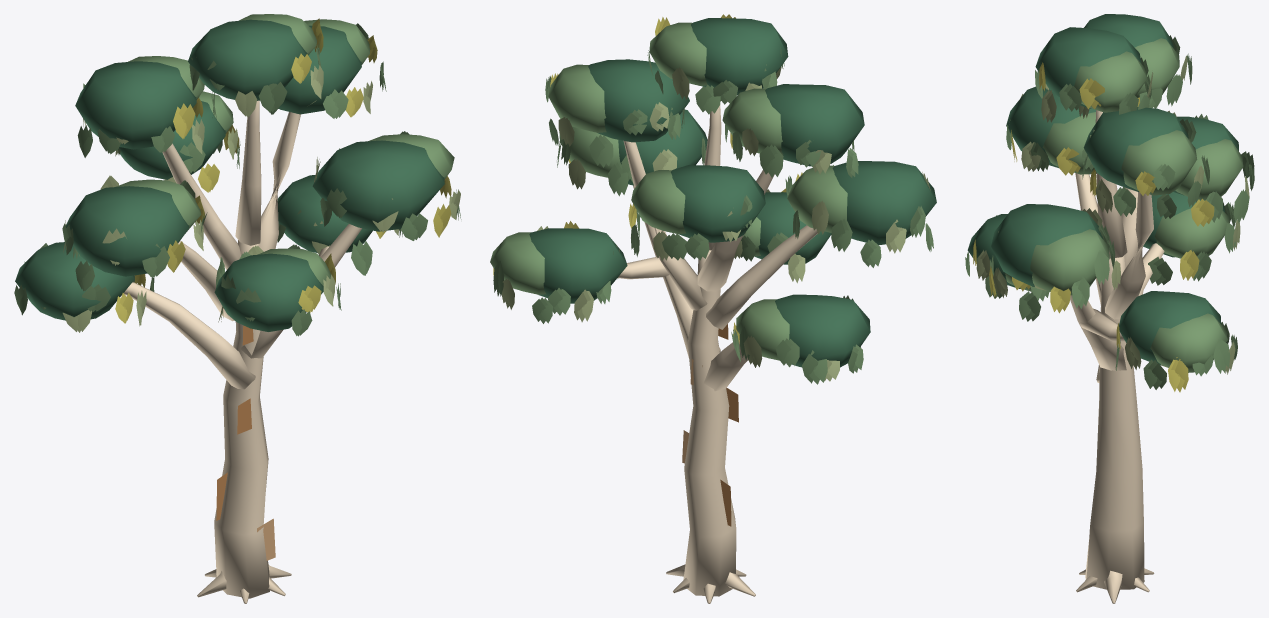
Rendered from TREE_EUCALYPTUS_001_v005_LOD_GAMEPLAY.glb.
The picture shows the model from 3 angles, left to right: view 1: azimuth 30°, elevation 25°; view 2: azimuth 150°, elevation 25°; view 3: azimuth 270°, elevation 25°; orthographic projection. The views are drawn at different scales.
Parts seen in each view (by area): view 1: TREE_EUCALYPTUS_001_GAMEPLAY_STYLIZED_LEAF_CLUSTERS, TREE_EUCALYPTUS_001_GAMEPLAY_ORGANIC_LIMB_0, TREE_EUCALYPTUS_001_GAMEPLAY_ORGANIC_LIMB_1, TREE_EUCALYPTUS_001_GAMEPLAY_ORGANIC_LIMB_4, TREE_EUCALYPTUS_001_GAMEPLAY_ORGANIC_LIMB_3, TREE_EUCALYPTUS_001_GAMEPLAY_ORGANIC_LIMB_6, TREE_EUCALYPTUS_001_GAMEPLAY_BARK_BLOCKS, TREE_EUCALYPTUS_001_GAMEPLAY_ORGANIC_LIMB_5, TREE_EUCALYPTUS_001_GAMEPLAY_ORGANIC_LIMB_2; view 2: TREE_EUCALYPTUS_001_GAMEPLAY_STYLIZED_LEAF_CLUSTERS, TREE_EUCALYPTUS_001_GAMEPLAY_ORGANIC_LIMB_0, TREE_EUCALYPTUS_001_GAMEPLAY_ORGANIC_LIMB_2, TREE_EUCALYPTUS_001_GAMEPLAY_ORGANIC_LIMB_6, TREE_EUCALYPTUS_001_GAMEPLAY_ORGANIC_LIMB_3, TREE_EUCALYPTUS_001_GAMEPLAY_ORGANIC_LIMB_1, TREE_EUCALYPTUS_001_GAMEPLAY_ORGANIC_LIMB_5, TREE_EUCALYPTUS_001_GAMEPLAY_BARK_BLOCKS, TREE_EUCALYPTUS_001_GAMEPLAY_ORGANIC_LIMB_4, TREE_EUCALYPTUS_001_GAMEPLAY_ORGANIC_LIMB_7; view 3: TREE_EUCALYPTUS_001_GAMEPLAY_STYLIZED_LEAF_CLUSTERS, TREE_EUCALYPTUS_001_GAMEPLAY_ORGANIC_LIMB_0, TREE_EUCALYPTUS_001_GAMEPLAY_ORGANIC_LIMB_6, TREE_EUCALYPTUS_001_GAMEPLAY_ORGANIC_LIMB_5, TREE_EUCALYPTUS_001_GAMEPLAY_ORGANIC_LIMB_4, TREE_EUCALYPTUS_001_GAMEPLAY_ORGANIC_LIMB_3, TREE_EUCALYPTUS_001_GAMEPLAY_ORGANIC_LIMB_7, TREE_EUCALYPTUS_001_GAMEPLAY_ORGANIC_LIMB_2, TREE_EUCALYPTUS_001_GAMEPLAY_ORGANIC_LIMB_1, TREE_EUCALYPTUS_001_GAMEPLAY_ROOT_FLARE_0.
Part boxes in pixels (x1,y1,x2,y2): TREE_EUCALYPTUS_001_GAMEPLAY_STYLIZED_LEAF_CLUSTERS: (14,14,461,336); TREE_EUCALYPTUS_001_GAMEPLAY_ORGANIC_LIMB_0: (214,240,269,598); TREE_EUCALYPTUS_001_GAMEPLAY_ORGANIC_LIMB_1: (124,282,255,389); TREE_EUCALYPTUS_001_GAMEPLAY_ORGANIC_LIMB_4: (235,100,261,245); TREE_EUCALYPTUS_001_GAMEPLAY_ORGANIC_LIMB_3: (162,143,240,269); TREE_EUCALYPTUS_001_GAMEPLAY_ORGANIC_LIMB_6: (258,112,300,251); TREE_EUCALYPTUS_001_GAMEPLAY_BARK_BLOCKS: (216,325,275,560); TREE_EUCALYPTUS_001_GAMEPLAY_ORGANIC_LIMB_5: (240,224,361,358); TREE_EUCALYPTUS_001_GAMEPLAY_ORGANIC_LIMB_2: (178,241,234,321); TREE_EUCALYPTUS_001_GAMEPLAY_STYLIZED_LEAF_CLUSTERS: (490,14,936,384); TREE_EUCALYPTUS_001_GAMEPLAY_ORGANIC_LIMB_0: (683,250,736,596); TREE_EUCALYPTUS_001_GAMEPLAY_ORGANIC_LIMB_2: (706,225,817,329); TREE_EUCALYPTUS_001_GAMEPLAY_ORGANIC_LIMB_6: (623,140,707,310); TREE_EUCALYPTUS_001_GAMEPLAY_ORGANIC_LIMB_3: (697,170,774,291); TREE_EUCALYPTUS_001_GAMEPLAY_ORGANIC_LIMB_1: (703,340,747,391); TREE_EUCALYPTUS_001_GAMEPLAY_ORGANIC_LIMB_5: (633,185,720,358); TREE_EUCALYPTUS_001_GAMEPLAY_BARK_BLOCKS: (682,324,738,526); TREE_EUCALYPTUS_001_GAMEPLAY_ORGANIC_LIMB_4: (704,105,721,250); TREE_EUCALYPTUS_001_GAMEPLAY_ORGANIC_LIMB_7: (618,257,669,279); TREE_EUCALYPTUS_001_GAMEPLAY_STYLIZED_LEAF_CLUSTERS: (965,14,1254,392); TREE_EUCALYPTUS_001_GAMEPLAY_ORGANIC_LIMB_0: (1085,255,1144,589); TREE_EUCALYPTUS_001_GAMEPLAY_ORGANIC_LIMB_6: (1105,192,1153,319); TREE_EUCALYPTUS_001_GAMEPLAY_ORGANIC_LIMB_5: (1070,295,1126,370); TREE_EUCALYPTUS_001_GAMEPLAY_ORGANIC_LIMB_4: (1095,110,1127,258); TREE_EUCALYPTUS_001_GAMEPLAY_ORGANIC_LIMB_3: (1121,187,1137,268); TREE_EUCALYPTUS_001_GAMEPLAY_ORGANIC_LIMB_7: (1079,308,1124,341); TREE_EUCALYPTUS_001_GAMEPLAY_ORGANIC_LIMB_2: (1075,173,1101,305); TREE_EUCALYPTUS_001_GAMEPLAY_ORGANIC_LIMB_1: (1096,243,1164,382); TREE_EUCALYPTUS_001_GAMEPLAY_ROOT_FLARE_0: (1104,570,1122,603).
Size of the model in its own units: 9.98 by 14 by 6.81.
